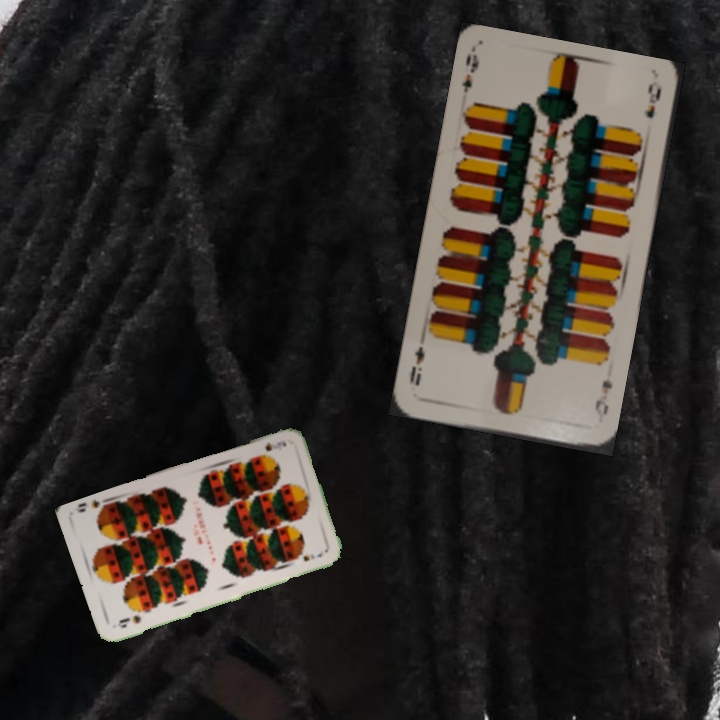E9: (590, 374, 615, 426), (457, 50, 482, 95)
S9: (113, 611, 143, 631), (261, 437, 289, 454)
